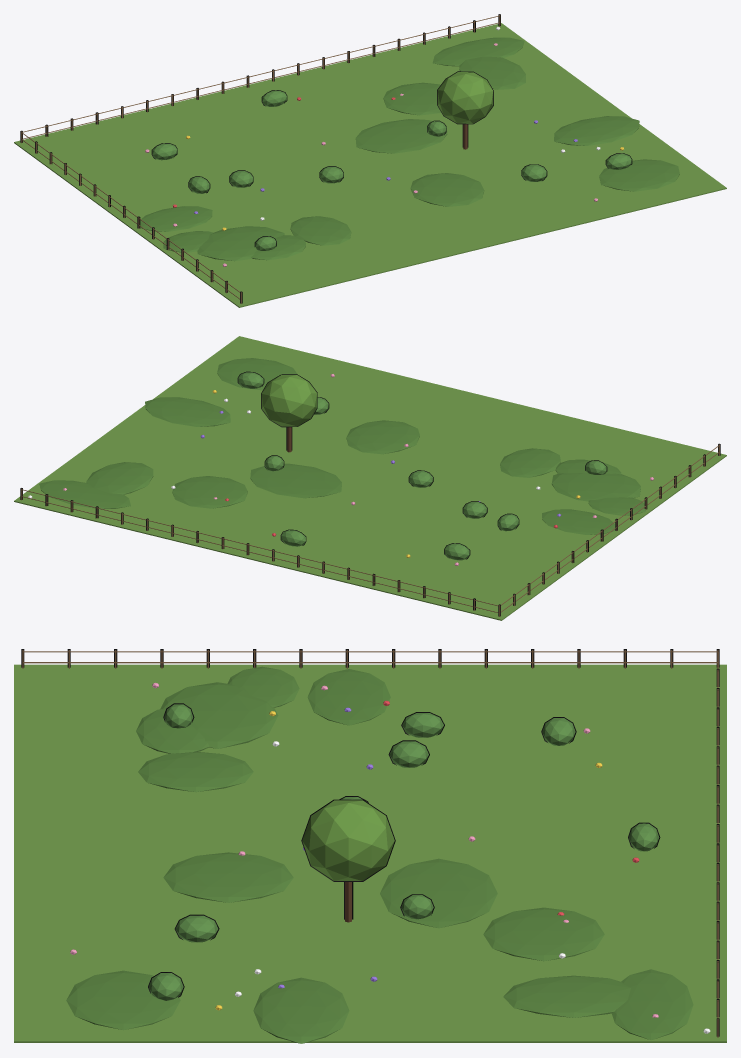
The model's file is Kir_alan_cayir_2.fbx.
3 views of the same model, one above another, from view 1: azimuth 30°, elevation 25°; view 2: azimuth 150°, elevation 25°; view 3: azimuth 270°, elevation 25° (orthographic). The views are drawn at different scales.
Parts seen in each view (by area): view 1: Kir_alan_cayir_2; view 2: Kir_alan_cayir_2; view 3: Kir_alan_cayir_2.
Part boxes in pixels (x1,y1,x2,y2): Kir_alan_cayir_2: (14,14,726,307); Kir_alan_cayir_2: (14,336,726,620); Kir_alan_cayir_2: (14,649,726,1043).
Bounding box in the file's own units: 50.35 × 7.66 × 40.
